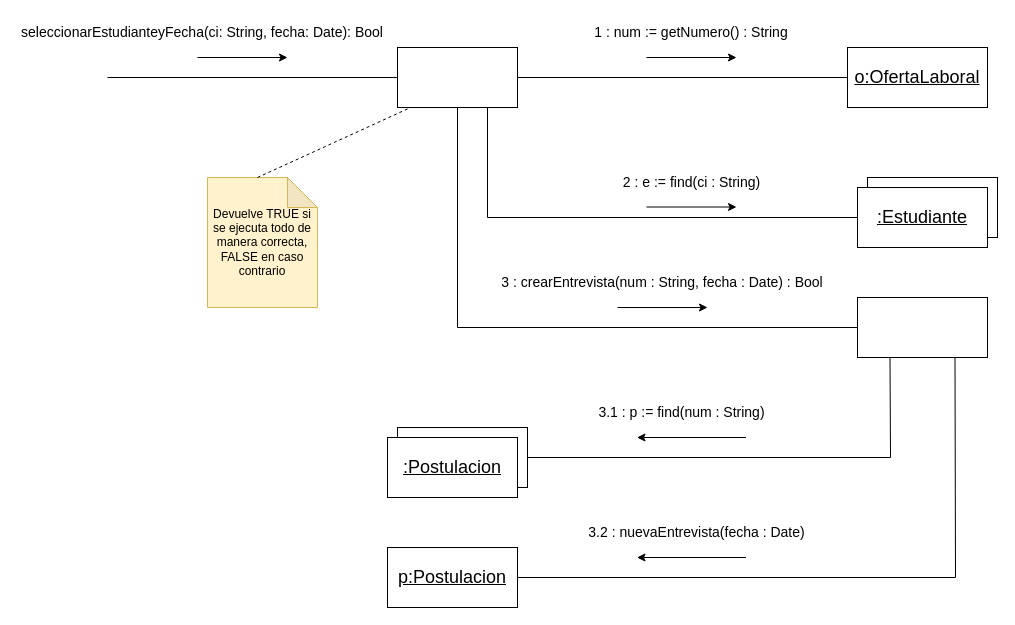
The diagram is 1015 pixels wide and 625 high, and some of its shapes have lost their labels. The centre of each missing label's shape, as x and y in pixels:
":Sistema" belongs at (457,77).
"e:Estudiante" belongs at (922,327).
